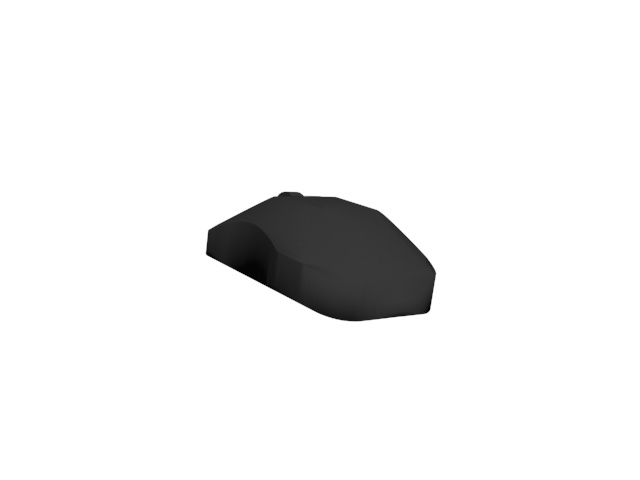mouse: (201, 185, 440, 328)
